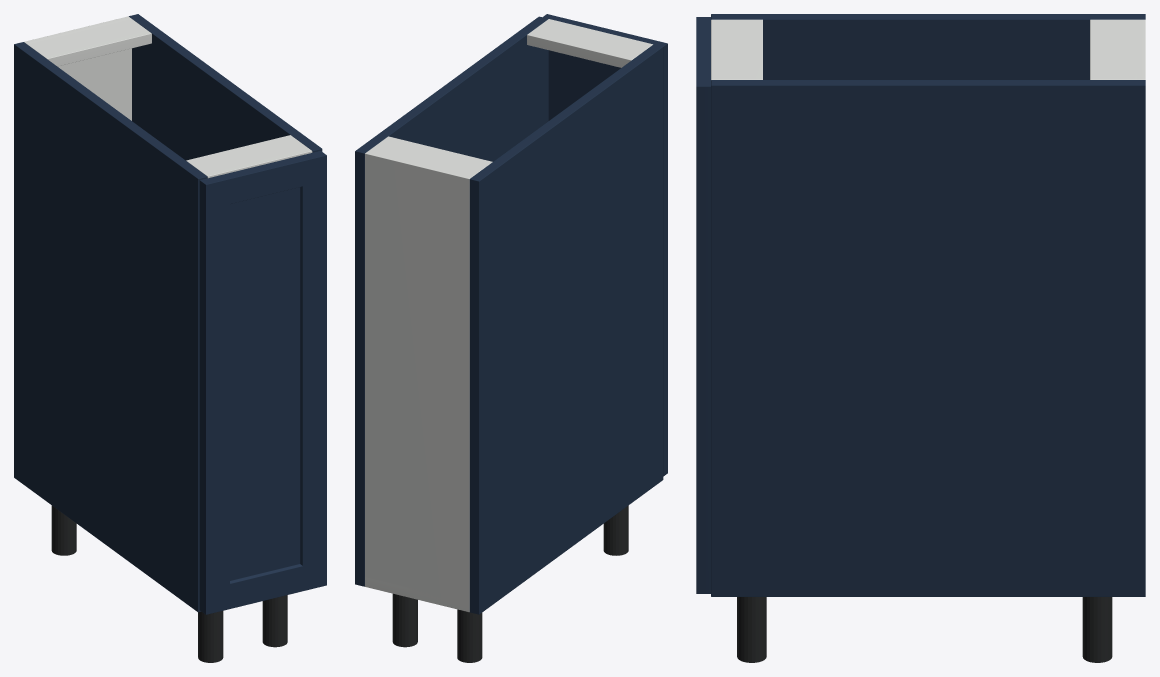
File: oppein-pb-bss-b09fh.glb
3 views of the same model, side by side, from view 1: azimuth 30°, elevation 25°; view 2: azimuth 150°, elevation 25°; view 3: azimuth 270°, elevation 25° (orthographic). The views are drawn at different scales.
Visible parts, largest first — view 1: Cabinet side, Door, Cabinet side.001, Cabinet back, Top support rail, Top support rail.001, Adjustable foot.001, Adjustable foot.003, Adjustable foot; view 2: Cabinet side, Cabinet back, Cabinet side.001, Door, Top support rail.001, Top support rail, Adjustable foot, Adjustable foot.002, Adjustable foot.001, Cabinet bottom; view 3: Cabinet side.001, Cabinet side, Door, Top support rail.001, Top support rail, Adjustable foot.002, Adjustable foot.003.
Part boxes in pixels (x1,y1,x2,y2): Cabinet side: [14, 42, 207, 612]; Door: [199, 151, 326, 614]; Cabinet side.001: [129, 14, 322, 160]; Cabinet back: [24, 16, 131, 120]; Top support rail: [26, 19, 151, 66]; Top support rail.001: [186, 135, 312, 178]; Adjustable foot.001: [198, 611, 223, 662]; Adjustable foot.003: [262, 595, 287, 647]; Adjustable foot: [51, 505, 76, 555]; Cabinet side: [469, 44, 663, 614]; Cabinet back: [365, 151, 472, 611]; Cabinet side.001: [355, 16, 548, 586]; Door: [543, 14, 667, 476]; Top support rail.001: [527, 19, 652, 67]; Top support rail: [369, 136, 492, 176]; Adjustable foot: [457, 609, 482, 662]; Adjustable foot.002: [392, 593, 417, 647]; Adjustable foot.001: [603, 505, 628, 555]; Cabinet bottom: [365, 577, 469, 612]; Cabinet side.001: [711, 80, 1145, 596]; Cabinet side: [711, 14, 1145, 79]; Door: [696, 17, 710, 593]; Top support rail.001: [711, 19, 762, 79]; Top support rail: [1090, 19, 1141, 79]; Adjustable foot.002: [1082, 597, 1112, 662]; Adjustable foot.003: [737, 597, 766, 662].
Bounding box in the file's own units: 0.2286 × 0.8763 × 0.6064.
